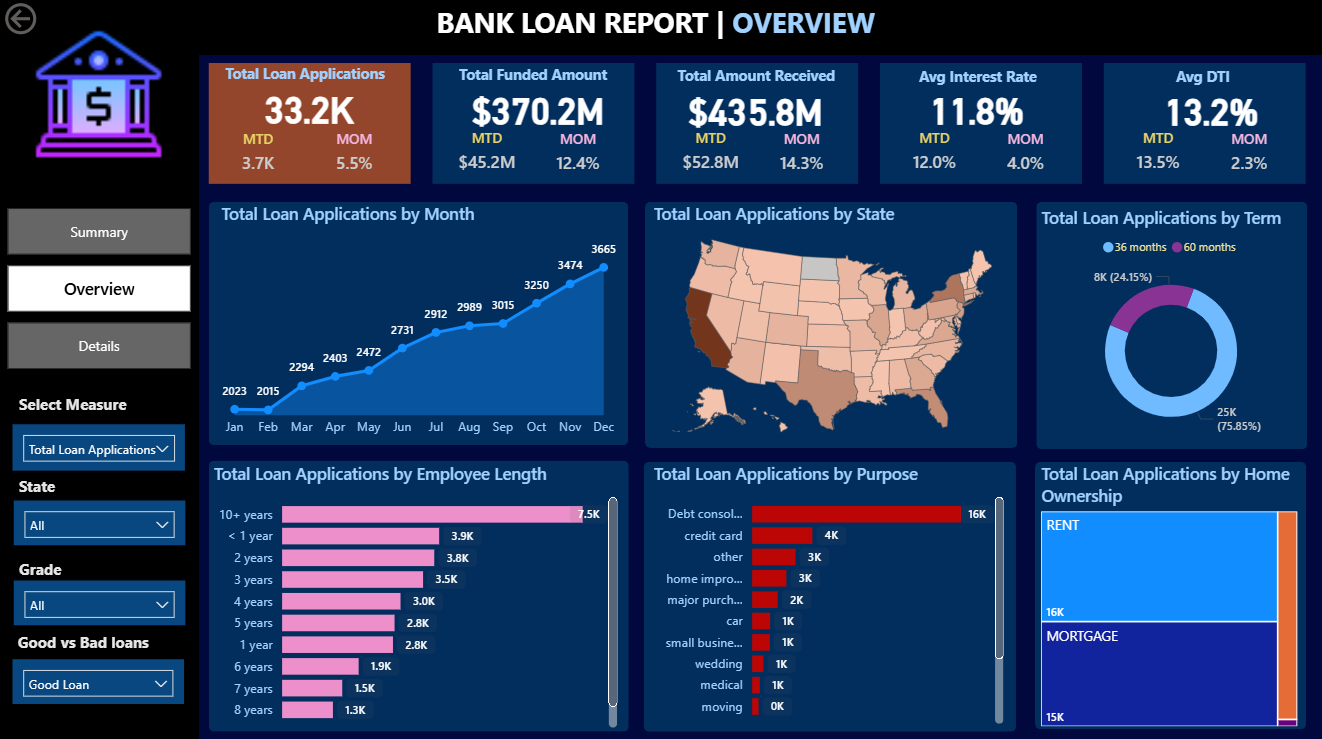

Layout of this report page (visuals, bound fields, positions):
{"tool":"powerbi","page":{"name":"Overview ","canvas":[1280,720],"ordinal":1},"visuals":[{"type":"shape","box":[201.7,62.7,194.9,116.6],"z":0,"group":"g1"},{"type":"shape","box":[417.5,62.7,194.9,116.6],"z":0,"group":"g2"},{"type":"shape","box":[633.2,62.7,194.9,116.6],"z":0,"group":"g3"},{"type":"shape","box":[849.5,62.7,194.9,116.6],"z":0,"group":"g4"},{"type":"shape","box":[1065.3,62.7,194.9,116.6],"z":0,"group":"g5"},{"type":"shape","box":[201.5,196.6,405,235],"z":0},{"type":"shape","box":[0,0,1280.3,55],"z":1000},{"type":"card","fields":{"Values":["bank_loan_data.Total Funded Amount"]},"box":[437.5,83.5,162.9,47.1],"z":1000,"group":"g2"},{"type":"card","fields":{"Values":["bank_loan_data.Total Amount Received"]},"box":[642.6,83.5,172.5,48.3],"z":1000,"group":"g3"},{"type":"card","fields":{"Values":["bank_loan_data.Avg DTI"]},"box":[1083.1,83.5,171.3,48.3],"z":1000,"group":"g5"},{"type":"card","fields":{"Values":["bank_loan_data.Avg Interest Rate"]},"box":[856.1,83.7,174.9,45.8],"z":1000,"group":"g4"},{"type":"card","fields":{"Values":["bank_loan_data.Total Loan Applications"]},"box":[219.5,84.7,157.8,42.5],"z":1000,"group":"g1"},{"type":"shape","box":[0,54.9,192,665.5],"z":2000},{"type":"textbox","box":[212.9,58.2,177.3,36.2],"z":2000,"group":"g1"},{"type":"textbox","box":[437.5,59.4,177.3,36.2],"z":2000,"group":"g2"},{"type":"textbox","box":[634.2,60.6,190.6,35],"z":2000,"group":"g3"},{"type":"textbox","box":[882.6,61.8,148.4,31.4],"z":2000,"group":"g4"},{"type":"textbox","box":[1092.7,61.8,143.6,31.4],"z":2000,"group":"g5"},{"type":"textbox","box":[415.6,0,448.7,50.8],"z":3000},{"type":"card","title":"MTD","fields":{"Values":["bank_loan_data.MTD Funded Amount"]},"box":[436.7,126.2,66.5,52],"z":3000,"group":"g2"},{"type":"card","title":"MTD","fields":{"Values":["bank_loan_data.MTD Total Amount Received"]},"box":[652.4,126.2,66.5,52],"z":3000,"group":"g3"},{"type":"card","title":"MTD","fields":{"Values":["bank_loan_data.MTD Average Int Rate"]},"box":[868.7,126.2,66.5,52],"z":3000,"group":"g4"},{"type":"card","title":"MTD","fields":{"Values":["bank_loan_data.MTD Average DTI"]},"box":[1084.5,126.2,66.5,52],"z":3000,"group":"g5"},{"type":"card","title":"MTD","fields":{"Values":["bank_loan_data.MTD Loan Applications"]},"box":[219.5,127.2,59,52.1],"z":3000,"group":"g1"},{"type":"group","id":"g1","title":"Group 1","box":[201.7,58.2,194.9,121.1],"z":4000},{"type":"card","title":"MOM","fields":{"Values":["bank_loan_data.MOM Loan Applications"]},"box":[312.8,127.2,59,52.1],"z":4000,"group":"g1"},{"type":"card","title":"MOM","fields":{"Values":["bank_loan_data.MOM Total Funded Amount"]},"box":[528.6,127.2,59,52.1],"z":4000,"group":"g2"},{"type":"card","title":"MOM","fields":{"Values":["bank_loan_data.MOM Total Amount Received"]},"box":[744.3,127.2,59,52.1],"z":4000,"group":"g3"},{"type":"card","title":"MOM","fields":{"Values":["bank_loan_data.MOM Avg Int Rate"]},"box":[960.6,127.2,59,52.1],"z":4000,"group":"g4"},{"type":"card","title":"MOM","fields":{"Values":["bank_loan_data.MOM Avg DTI"]},"box":[1176.4,127.2,59,52.1],"z":4000,"group":"g5"},{"type":"group","id":"g2","title":"Group 1","box":[417.5,59.4,197.3,119.9],"z":5000},{"type":"group","id":"g3","title":"Group 1","box":[633.2,60.6,194.9,118.7],"z":6000},{"type":"group","id":"g4","title":"Group 1","box":[849.5,61.8,194.9,117.5],"z":7000},{"type":"group","id":"g5","title":"Group 1","box":[1065.3,61.8,194.9,117.5],"z":8000},{"type":"actionButton","box":[0,0,100,40],"z":9000},{"type":"slicer","fields":{"Values":["bank_loan_data.address_state"]},"box":[13.5,485.2,165.3,43.4],"z":10000},{"type":"textbox","box":[13.5,456.3,103.8,39.8],"z":11000},{"type":"slicer","fields":{"Values":["bank_loan_data.grade"]},"box":[13.5,562.4,165.3,43.4],"z":12000},{"type":"textbox","box":[13.5,535.9,103.8,37.4],"z":13000},{"type":"slicer","fields":{"Values":["bank_loan_data.Good Vs Bad loans"]},"box":[12.5,637.7,165.3,43.4],"z":14000},{"type":"textbox","box":[12.1,606.8,152,37.4],"z":15000},{"type":"areaChart","fields":{"Y":["bank_loan_data.Total Loan Applications"],"Category":["Date Table.Month"]},"box":[208.7,196.6,392.1,235.3],"z":16000},{"type":"slicer","fields":{"Values":["Select Measure.Select Measure"]},"box":[12.1,411.4,166.5,44.6],"z":17000},{"type":"textbox","box":[13.3,376.4,126.7,35],"z":18000},{"type":"shape","box":[622.5,196.6,359.5,237.7],"z":19000},{"type":"shapeMap","fields":{"Value":["bank_loan_data.Total Loan Applications"],"Category":["bank_loan_data.address_state"]},"box":[626,196.6,354.7,237.7],"z":20000},{"type":"shape","box":[1000.1,196.6,261.8,238.9],"z":21000},{"type":"donutChart","fields":{"Y":["bank_loan_data.Total Loan Applications"],"Category":["bank_loan_data.term"]},"box":[1000.1,200.3,260.6,231.6],"z":22000},{"type":"shape","box":[201.5,446.4,405.4,261.8],"z":23000},{"type":"barChart","fields":{"Y":["bank_loan_data.Total Loan Applications"],"Category":["bank_loan_data.emp_length"]},"box":[201.5,447.6,399.3,261.8],"z":24000},{"type":"shape","box":[621.3,447.6,359.5,260.6],"z":25000},{"type":"barChart","fields":{"Y":["bank_loan_data.Total Loan Applications"],"Category":["bank_loan_data.purpose"]},"box":[626.1,447.6,347.5,258.2],"z":26000},{"type":"shape","box":[998.9,447.6,261.8,258.2],"z":27000},{"type":"treemap","fields":{"Values":["bank_loan_data.Total Loan Applications"],"Group":["bank_loan_data.home_ownership"]},"box":[1000.1,447.6,257,260.6],"z":28000},{"type":"pageNavigator","box":[7.2,202.7,177.3,156.8],"z":29000},{"type":"image","box":[14.5,13.3,161.7,159.3],"z":30000}]}

Visuals, with their boxes in screenshot pixels (x1, y1, x2, y2), scaled from the page's 1280x720 canvas onto the 1322x739 screenshot:
shape: crop(208, 64, 410, 184)
shape: crop(431, 64, 632, 184)
shape: crop(654, 64, 855, 184)
shape: crop(877, 64, 1079, 184)
shape: crop(1100, 64, 1302, 184)
shape: crop(208, 202, 626, 443)
shape: crop(0, 0, 1321, 56)
card - bank_loan_data.Total Funded Amount: crop(452, 86, 620, 134)
card - bank_loan_data.Total Amount Received: crop(664, 86, 842, 135)
card - bank_loan_data.Avg DTI: crop(1119, 86, 1296, 135)
card - bank_loan_data.Avg Interest Rate: crop(884, 86, 1065, 133)
card - bank_loan_data.Total Loan Applications: crop(227, 87, 390, 131)
shape: crop(0, 56, 198, 738)
textbox: crop(220, 60, 403, 97)
textbox: crop(452, 61, 635, 98)
textbox: crop(655, 62, 852, 98)
textbox: crop(912, 63, 1065, 96)
textbox: crop(1129, 63, 1277, 96)
textbox: crop(429, 0, 893, 52)
"MTD" card: crop(451, 130, 520, 183)
"MTD" card: crop(674, 130, 742, 183)
"MTD" card: crop(897, 130, 966, 183)
"MTD" card: crop(1120, 130, 1189, 183)
"MTD" card: crop(227, 131, 288, 184)
"Group 1" group: crop(208, 60, 410, 184)
"MOM" card: crop(323, 131, 384, 184)
"MOM" card: crop(546, 131, 607, 184)
"MOM" card: crop(769, 131, 830, 184)
"MOM" card: crop(992, 131, 1053, 184)
"MOM" card: crop(1215, 131, 1276, 184)
"Group 1" group: crop(431, 61, 635, 184)
"Group 1" group: crop(654, 62, 855, 184)
"Group 1" group: crop(877, 63, 1079, 184)
"Group 1" group: crop(1100, 63, 1302, 184)
actionButton: crop(0, 0, 103, 41)
slicer - bank_loan_data.address_state: crop(14, 498, 185, 543)
textbox: crop(14, 468, 121, 509)
slicer - bank_loan_data.grade: crop(14, 577, 185, 622)
textbox: crop(14, 550, 121, 588)
slicer - bank_loan_data.Good Vs Bad loans: crop(13, 655, 184, 699)
textbox: crop(12, 623, 169, 661)
areaChart - bank_loan_data.Total Loan Applications x Date Table.Month: crop(216, 202, 621, 443)
slicer - Select Measure.Select Measure: crop(12, 422, 184, 468)
textbox: crop(14, 386, 145, 422)
shape: crop(643, 202, 1014, 446)
shapeMap - bank_loan_data.Total Loan Applications x bank_loan_data.address_state: crop(647, 202, 1013, 446)
shape: crop(1033, 202, 1303, 447)
donutChart - bank_loan_data.Total Loan Applications x bank_loan_data.term: crop(1033, 206, 1302, 443)
shape: crop(208, 458, 627, 727)
barChart - bank_loan_data.Total Loan Applications x bank_loan_data.emp_length: crop(208, 459, 621, 728)
shape: crop(642, 459, 1013, 727)
barChart - bank_loan_data.Total Loan Applications x bank_loan_data.purpose: crop(647, 459, 1006, 724)
shape: crop(1032, 459, 1302, 724)
treemap - bank_loan_data.Total Loan Applications x bank_loan_data.home_ownership: crop(1033, 459, 1298, 727)
pageNavigator: crop(7, 208, 191, 369)
image: crop(15, 14, 182, 177)
